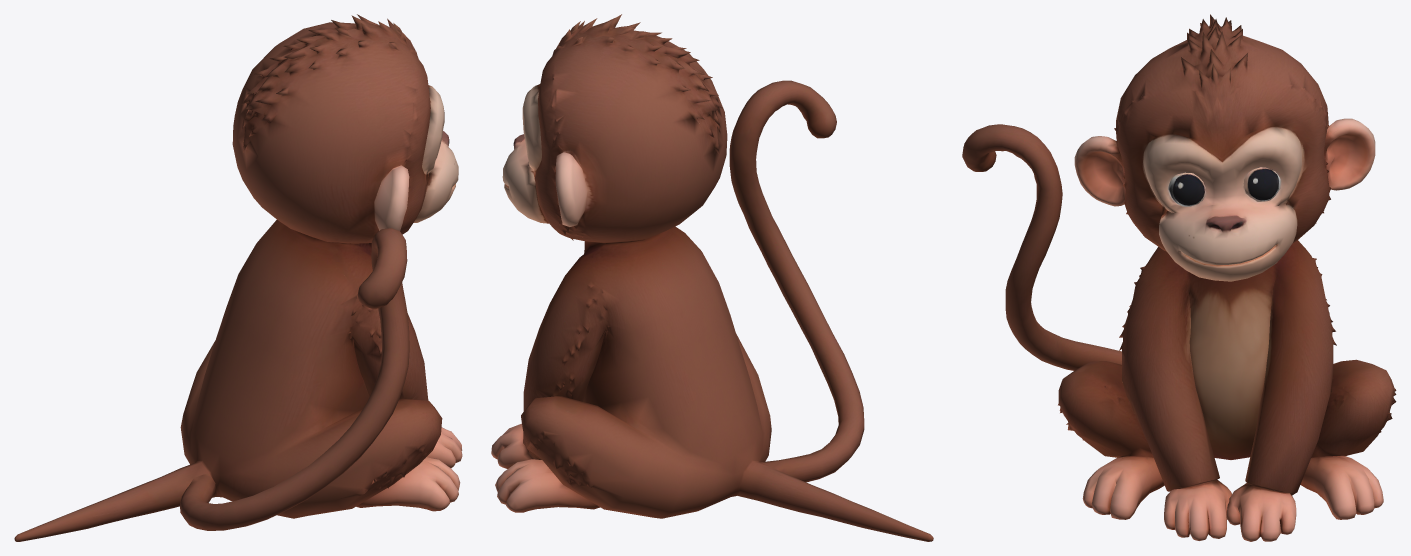
Rendered from monkey.glb.
3 views of the same model, side by side, from view 1: azimuth 30°, elevation 25°; view 2: azimuth 150°, elevation 25°; view 3: azimuth 270°, elevation 25° (orthographic). The views are drawn at different scales.
Parts seen in each view (by area): view 1: tripo_node_981abbb4-8d27-49e6-9d03-a58c47aac46b; view 2: tripo_node_981abbb4-8d27-49e6-9d03-a58c47aac46b; view 3: tripo_node_981abbb4-8d27-49e6-9d03-a58c47aac46b.
Boxes of the visible parts, box(x1,y1,x2,y2) form: tripo_node_981abbb4-8d27-49e6-9d03-a58c47aac46b: box(14, 14, 462, 541); tripo_node_981abbb4-8d27-49e6-9d03-a58c47aac46b: box(491, 14, 933, 541); tripo_node_981abbb4-8d27-49e6-9d03-a58c47aac46b: box(962, 14, 1396, 541).
Size of the model in its own units: 0.998 by 0.998 by 0.8457.
1 material, 1 textured.
